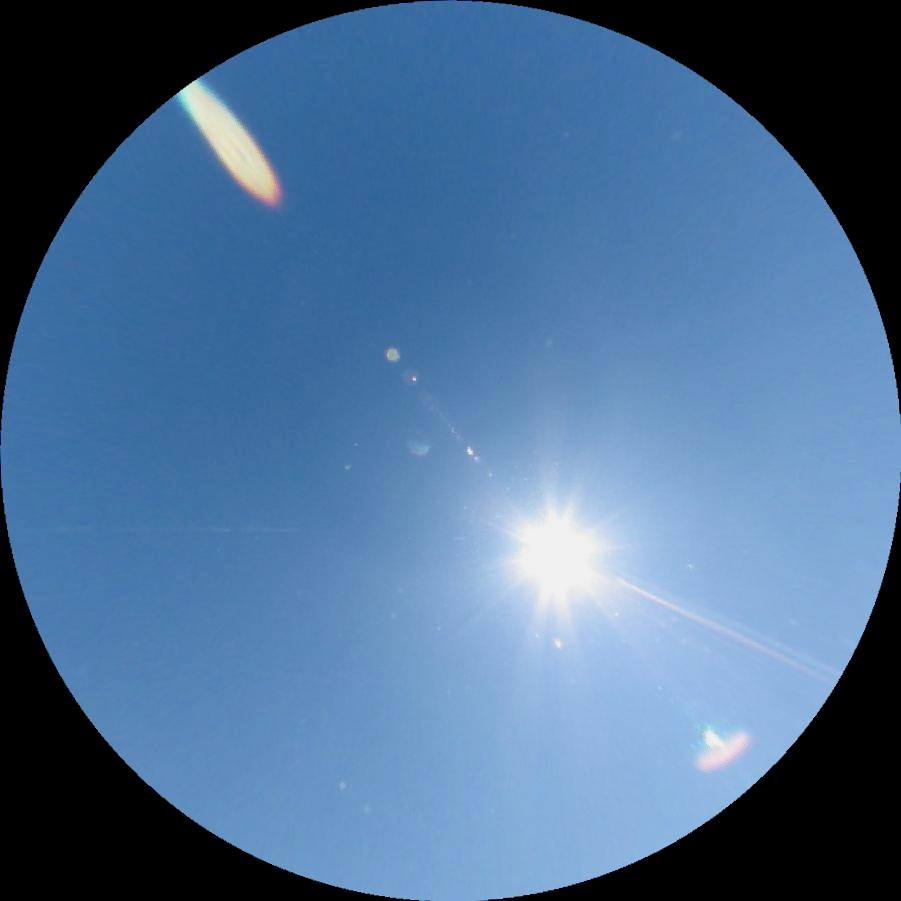parasite: (614, 572, 836, 687), (10, 523, 297, 534)
sun: (502, 500, 607, 606)
